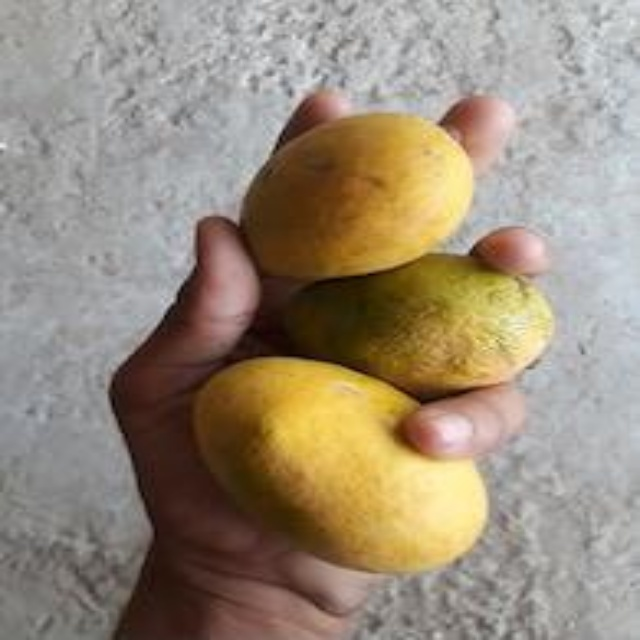mango: (187, 365, 497, 582), (317, 242, 565, 398), (221, 113, 460, 271)
